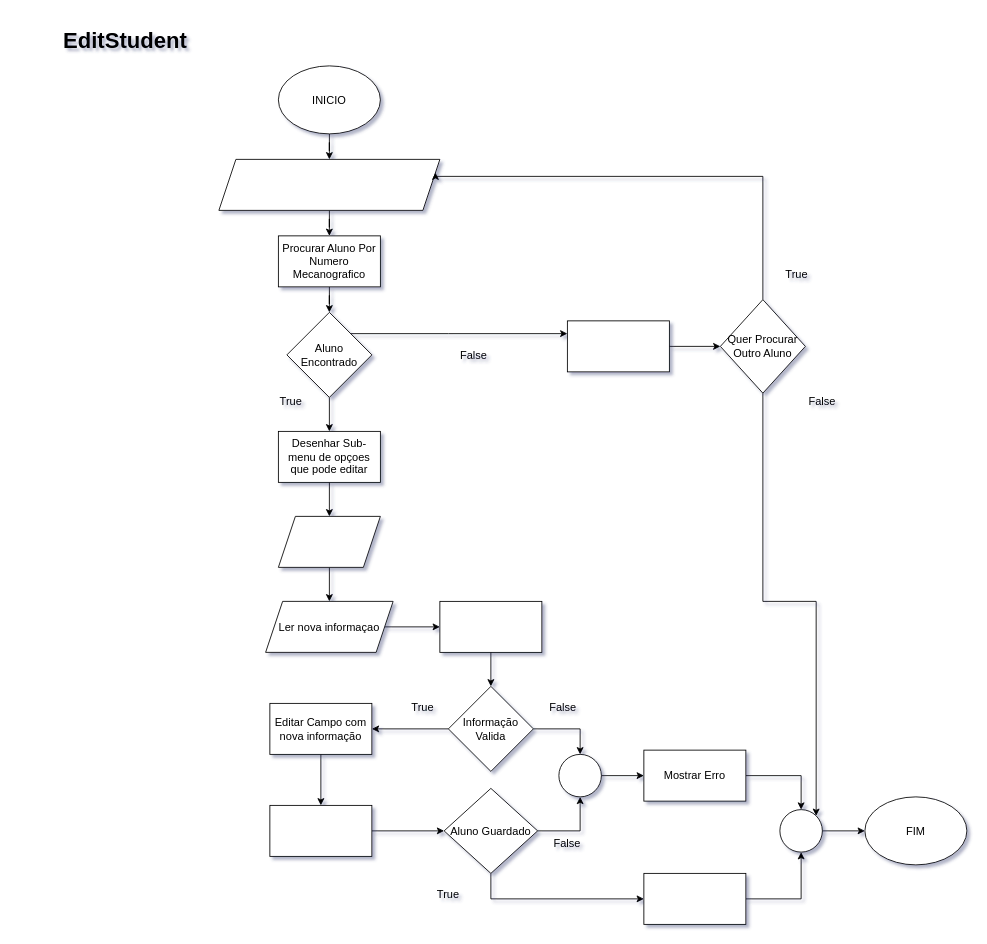
Some shapes in this 987 by 944 pixel diagram are drawn without their labels. Each missing label, with the centre of its shape:
"Guardar Aluno" belongs at pixel 320 830.
"Ler Escolha" belongs at pixel 329 541.
"Ler NumeroMecanografico" belongs at pixel 329 184.
"Mostrar Mensagem Sucesso" belongs at pixel 694 898.
"Perguntar se quer procurar Outro Aluno" belongs at pixel 618 346.
"Validar Informaçao" belongs at pixel 490 626.
